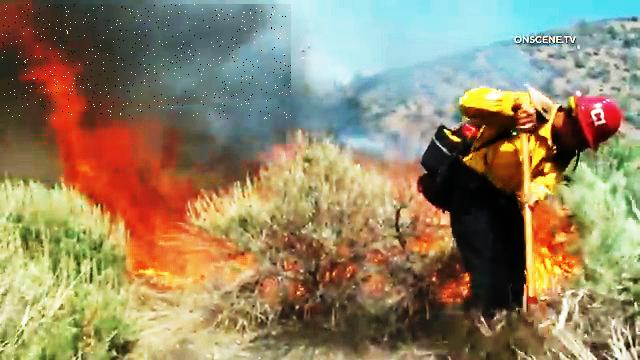smoke: (2, 5, 291, 120)
